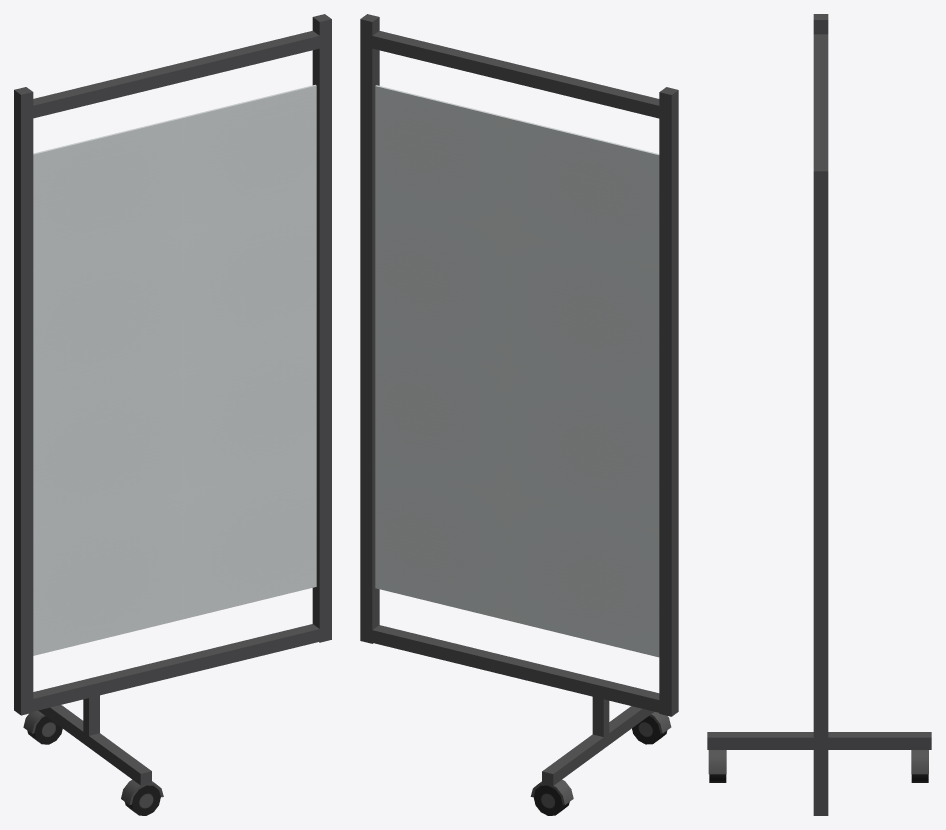
The model's file is screen2.FBX.
3 views of the same model, side by side, from view 1: azimuth 30°, elevation 25°; view 2: azimuth 150°, elevation 25°; view 3: azimuth 270°, elevation 25° (orthographic). The views are drawn at different scales.
Parts seen in each view (by area): view 1: screen2; view 2: screen2; view 3: screen2.
Boxes of the visible parts, x1,y1,x2,y2 form: screen2: (14,14,331,815); screen2: (360,14,678,815); screen2: (707,14,931,815).
Size of the model in its own units: 38.06 by 22.9 by 82.21.
